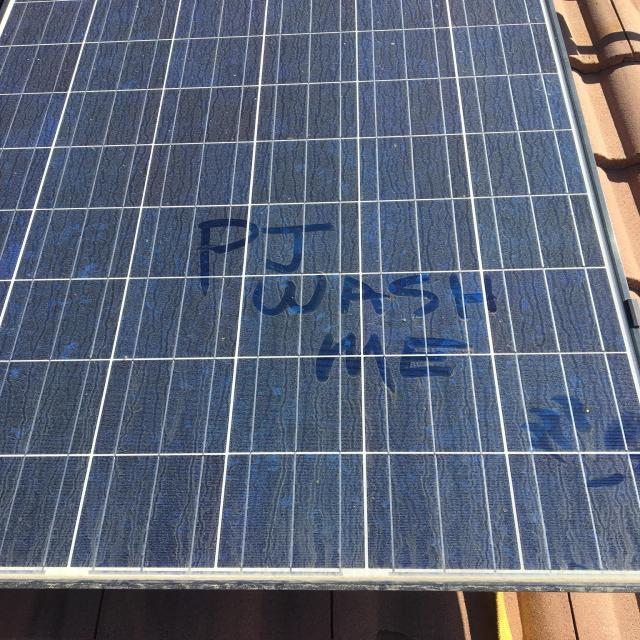dust-solar-panel: (0, 0, 578, 578)
